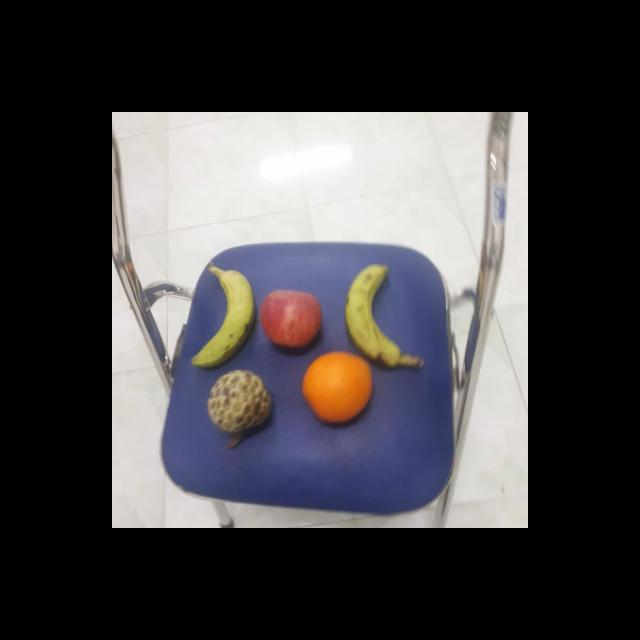Sakya fruit: (205, 368, 273, 434)
apple: (259, 288, 325, 349)
banana: (186, 266, 257, 371), (341, 260, 409, 368)
orange: (300, 350, 374, 423)
